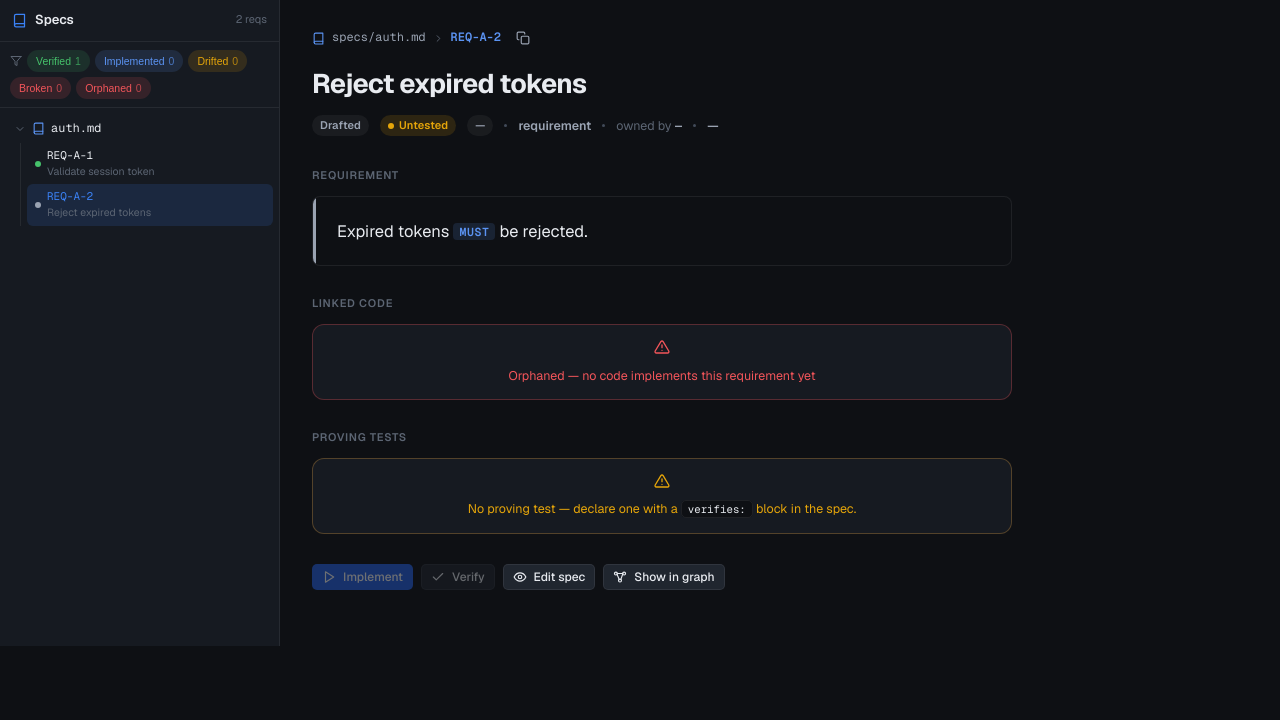
Test: SpecEditor (REQ-DESKTOP-006…011) › 008.A1: a drafted spec shows the drafted pill with "queued for implementation"
The image size is (1280, 720).
Click the button "Edit spec" at (549, 577), box x1=503 y1=564 x2=595 y2=590
(page scrolled)
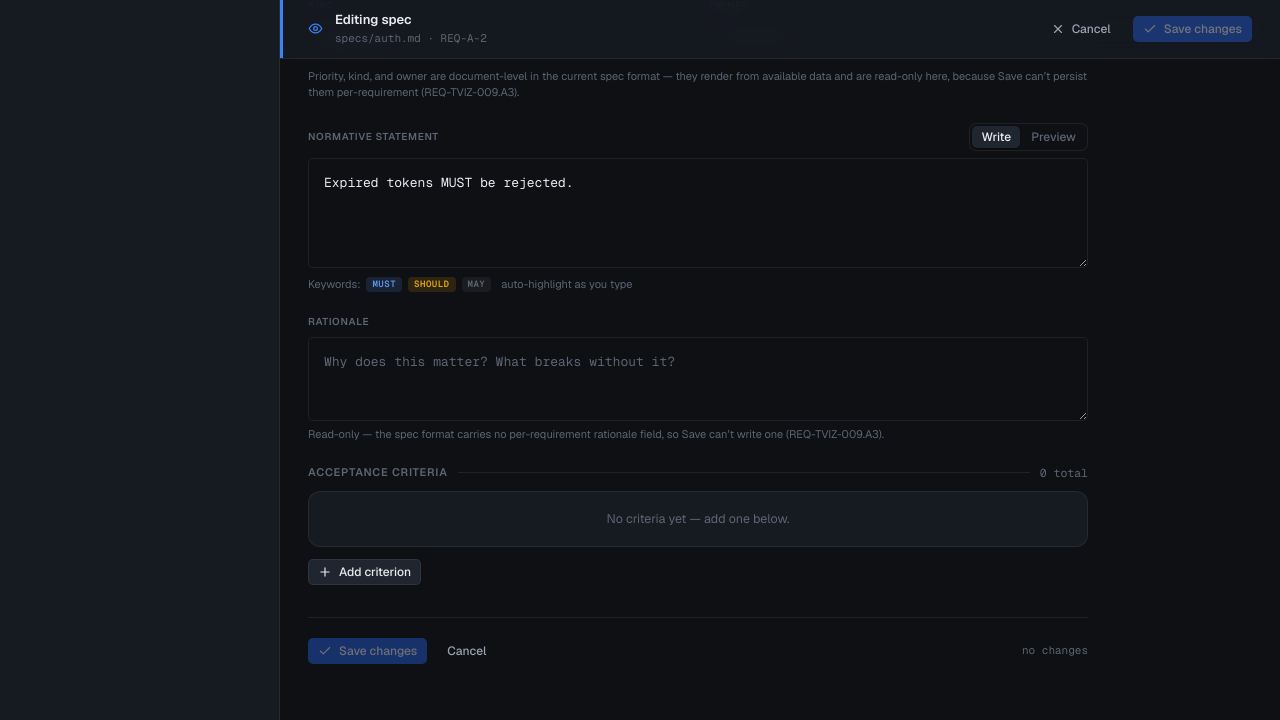
Expected: the text "No criteria yet — add one below." is shown, x1=607 y1=510 x2=789 y2=527
